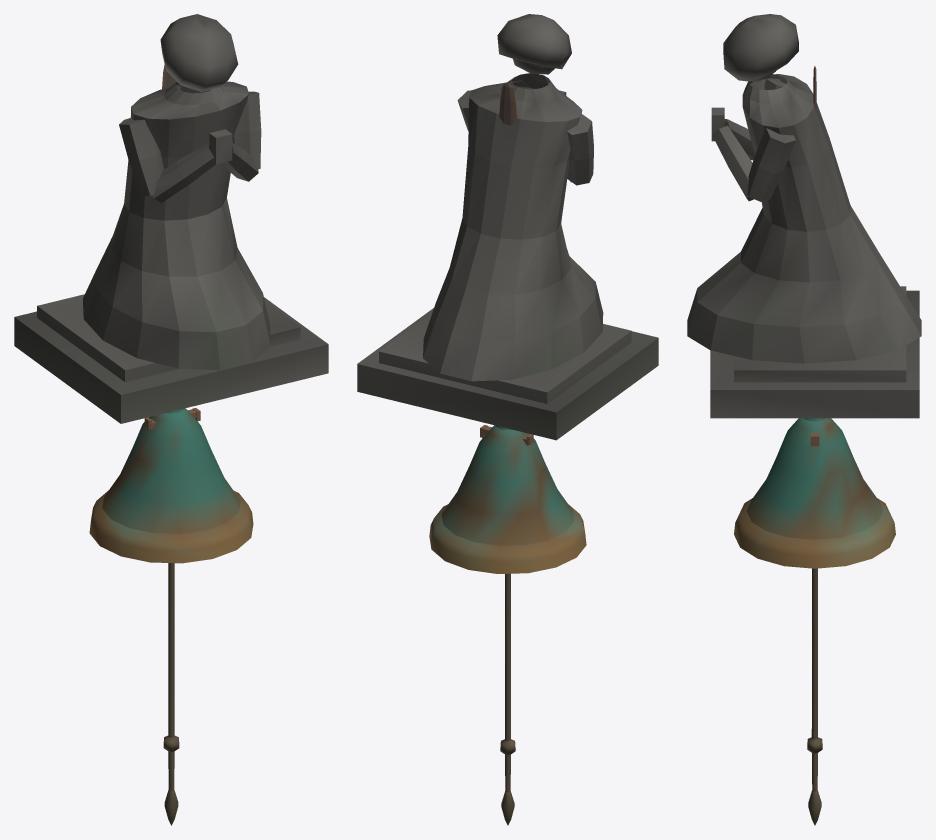
The model's file is exploration.glb.
3 views of the same model, side by side, from view 1: azimuth 30°, elevation 25°; view 2: azimuth 150°, elevation 25°; view 3: azimuth 270°, elevation 25° (orthographic). The views are drawn at different scales.
Visible parts, largest first — view 1: PrayingStatue, Bell; view 2: PrayingStatue, Bell, GravekeeperGreatsword; view 3: PrayingStatue, Bell.
Boxes of the visible parts, left/top/right/bottom form: PrayingStatue: left=14, top=14, right=328, bottom=423; Bell: left=89, top=408, right=253, bottom=825; PrayingStatue: left=357, top=14, right=658, bottom=440; Bell: left=429, top=425, right=586, bottom=825; GravekeeperGreatsword: left=499, top=82, right=517, bottom=125; PrayingStatue: left=687, top=14, right=921, bottom=418; Bell: left=734, top=418, right=895, bottom=825.
Size of the model in its own units: 0.9 by 3.41 by 0.8969.
